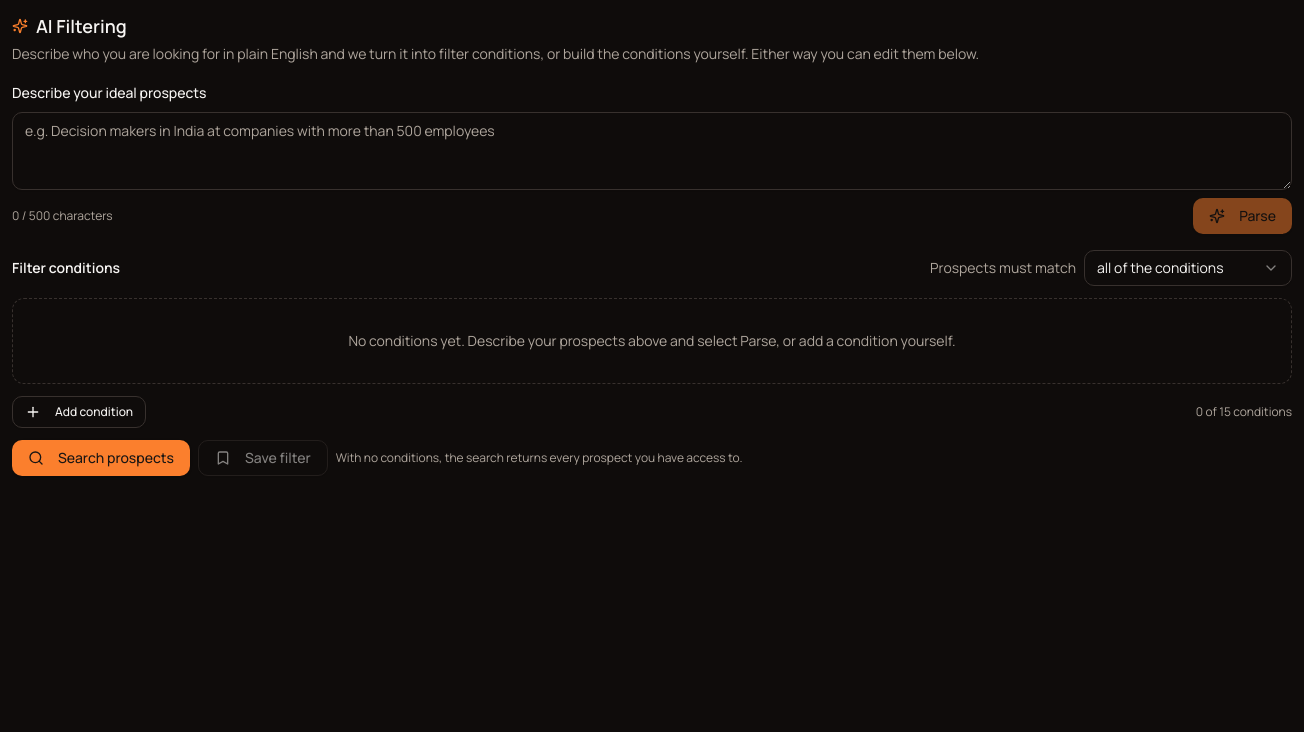
Scenario: turns a sentence into conditions and searches with them
The image size is (1304, 732).
In the text box labelled "Describe your ideal prospects": (652, 151) left=12, top=112, right=1292, bottom=190, type "CTOs"
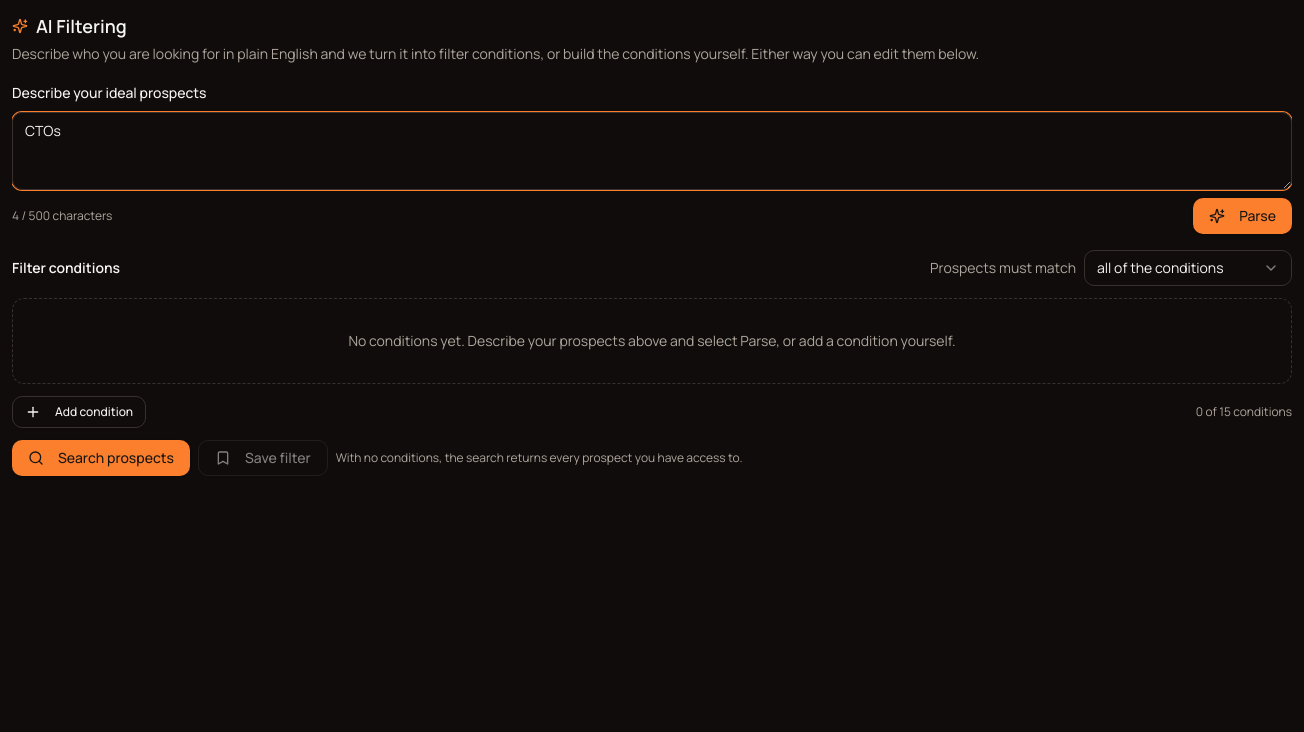
Click the button "Parse": (1243, 216) left=1193, top=198, right=1292, bottom=234
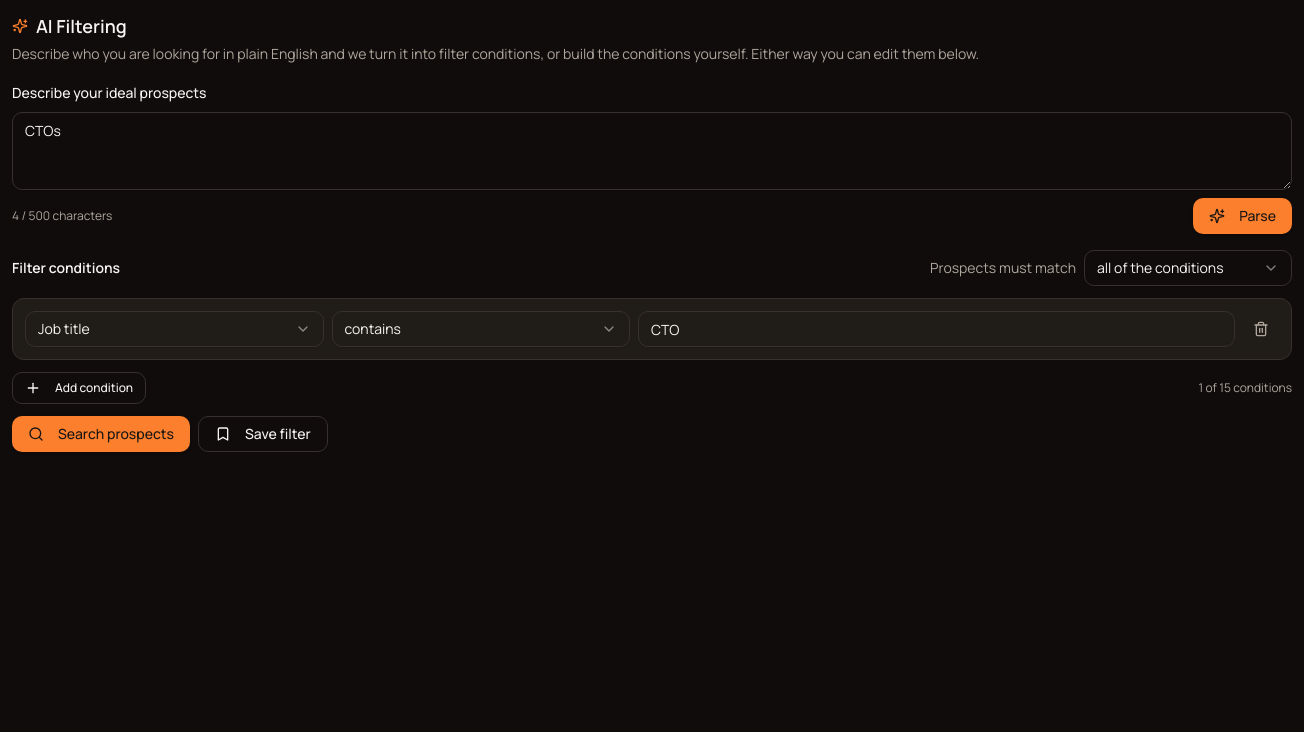
Click the button "Search prospects": (101, 434) left=12, top=416, right=190, bottom=452
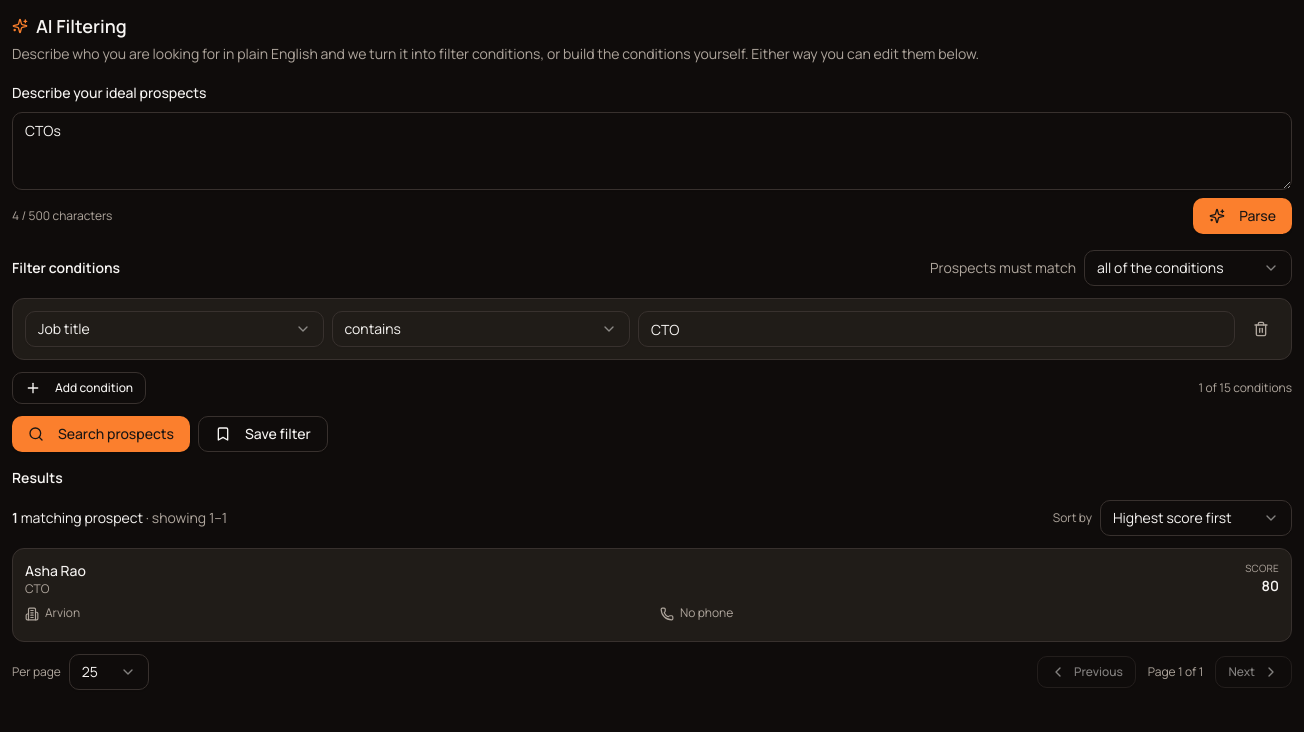
Now the text "Asha Rao" is shown, box left=25, top=561, right=86, bottom=580
